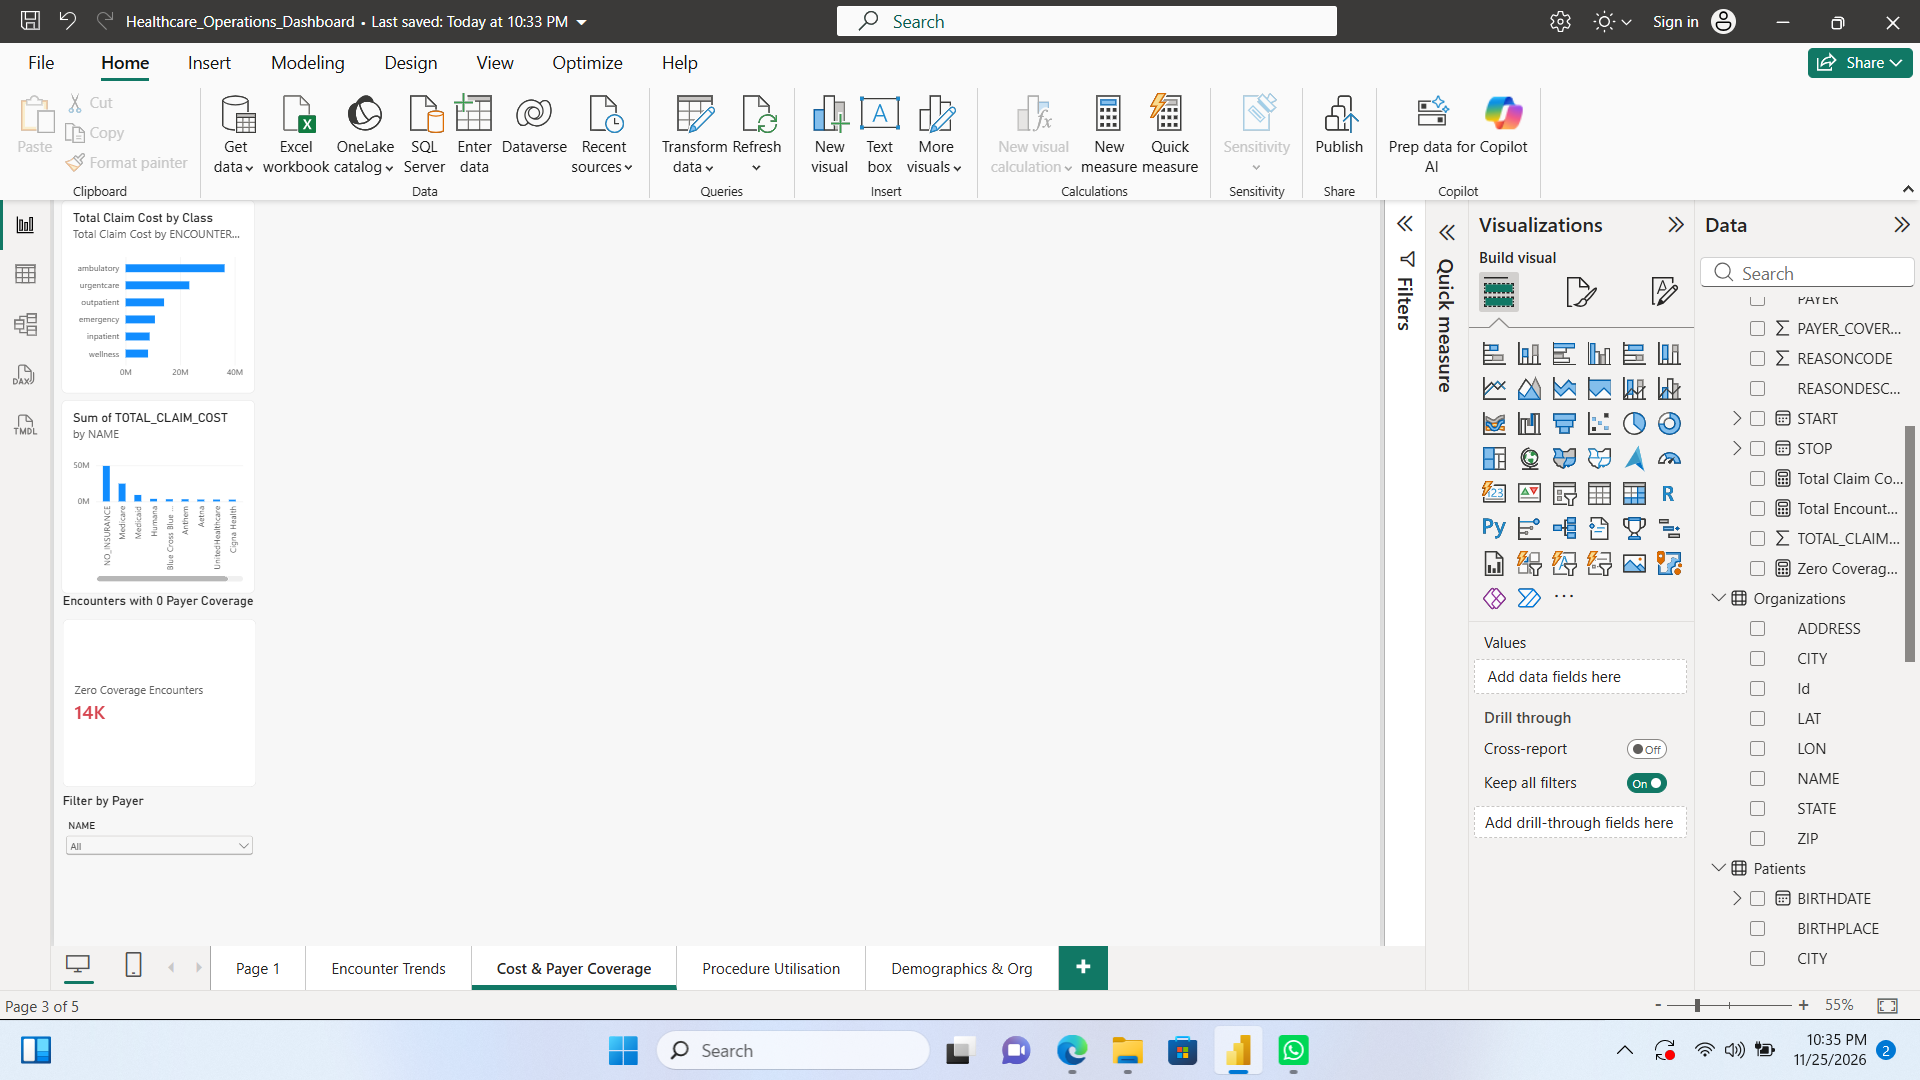

The dashboard page shown, as its layout file describes it:
{"tool":"powerbi","page":{"name":"Cost & Payer Coverage","canvas":[1920,1080],"ordinal":2},"visuals":[{"type":"clusteredBarChart","title":"Total Claim Cost by Class","fields":{"Category":["Encounters.ENCOUNTERCLASS"],"Y":["Encounters.Total Claim Cost"]},"box":[10,0,280,280],"z":0},{"type":"clusteredColumnChart","fields":{"Category":["Payers.NAME"],"Y":["Sum(Encounters.TOTAL_CLAIM_COST)"]},"box":[10,290,280,280],"z":1},{"type":"cardVisual","title":"Encounters with 0 Payer Coverage","fields":{"Data":["Encounters.Zero Coverage Encounters"]},"box":[12.7,570,280,280],"z":2},{"type":"slicer","title":"Filter by Payer","fields":{"Values":["Payers.NAME"]},"box":[13,860,280,220],"z":3}]}

Visuals, with their boxes on the page's 1920x1080 design canvas (x1, y1, x2, y2). These are canvas units, not pixel positions in the 1920x1080 screenshot, which may show the page scaled, cropped or inside an application window:
"Total Claim Cost by Class" clusteredBarChart: <region>10, 0, 290, 280</region>
clusteredColumnChart - Payers.NAME x Sum(Encounters.TOTAL_CLAIM_COST): <region>10, 290, 290, 570</region>
"Encounters with 0 Payer Coverage" cardVisual: <region>13, 570, 293, 850</region>
"Filter by Payer" slicer: <region>13, 860, 293, 1080</region>
